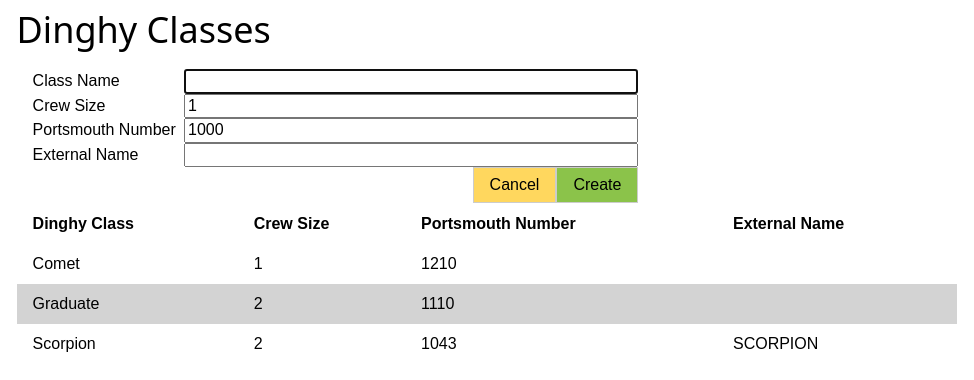
Test case: when a dinghy class is selected › displays dinghy class details for editing
What coordinates should you click on to do the following:
click the cell "Scorpion"
I would click on:
 (64, 343)
Its box is [17,324,246,364].
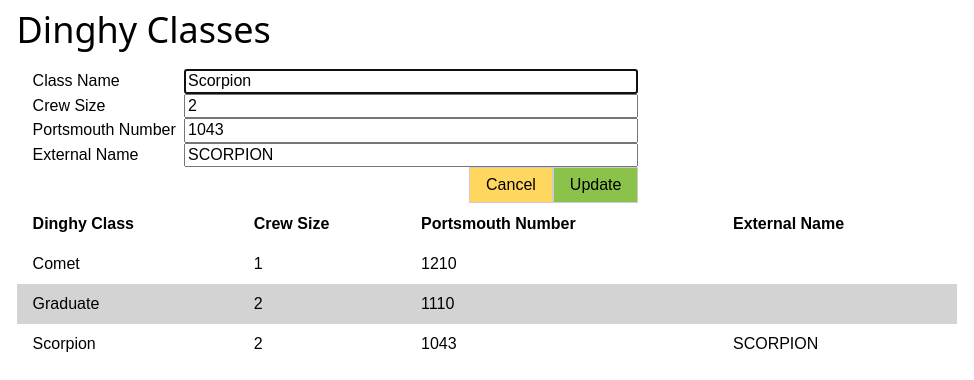
Expected: the field labelled "Class Name" holds "Scorpion", [184,69,638,94]
Expected: the number field labelled "Crew Size" holds "2", [184,94,638,118]
Expected: the number field labelled "Portsmouth Number" holds "1043", [184,118,638,143]
